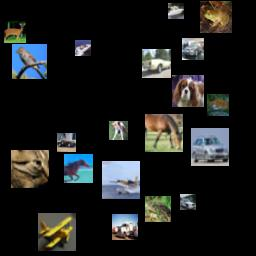airplane: (102, 161, 140, 199), (38, 213, 76, 251)
automobile: (191, 128, 229, 166), (142, 49, 171, 78), (182, 38, 204, 60), (57, 133, 76, 152), (180, 194, 196, 210)
bird: (12, 44, 47, 79)
cat: (11, 150, 49, 188), (207, 94, 229, 116)
deer: (4, 21, 26, 43)
dog: (172, 75, 204, 107), (109, 121, 128, 140)
frog: (200, 1, 232, 33), (145, 196, 171, 222)
ship: (75, 40, 91, 56), (168, 3, 184, 19)
truck: (112, 214, 138, 240)
